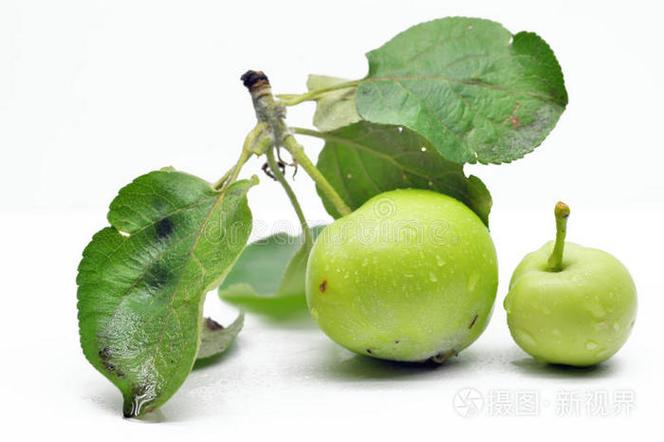unripe: (304, 177, 501, 375), (503, 200, 638, 375)
